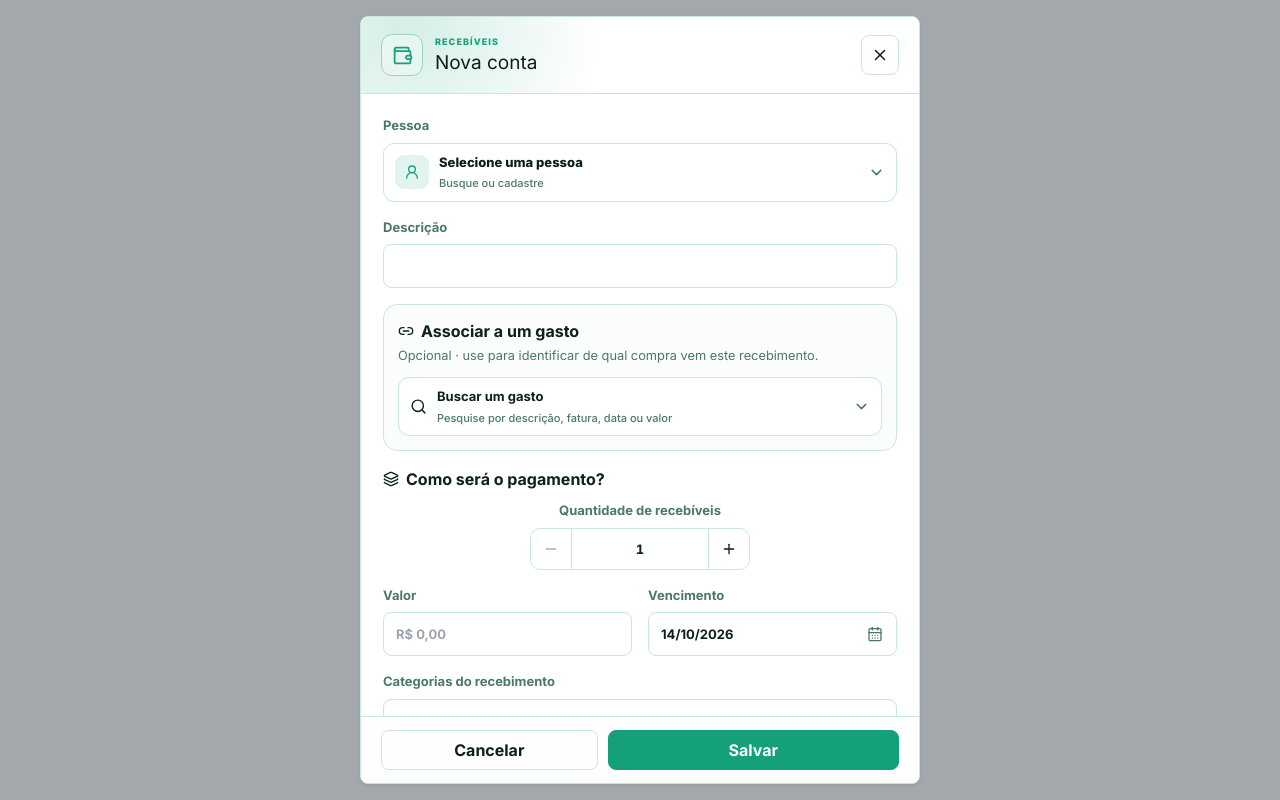
ReceivableModal expense defaults › prefills the original purchase total split across its four installments
Click the button "Buscar um gasto" at [490, 396], box [398,377,882,436]
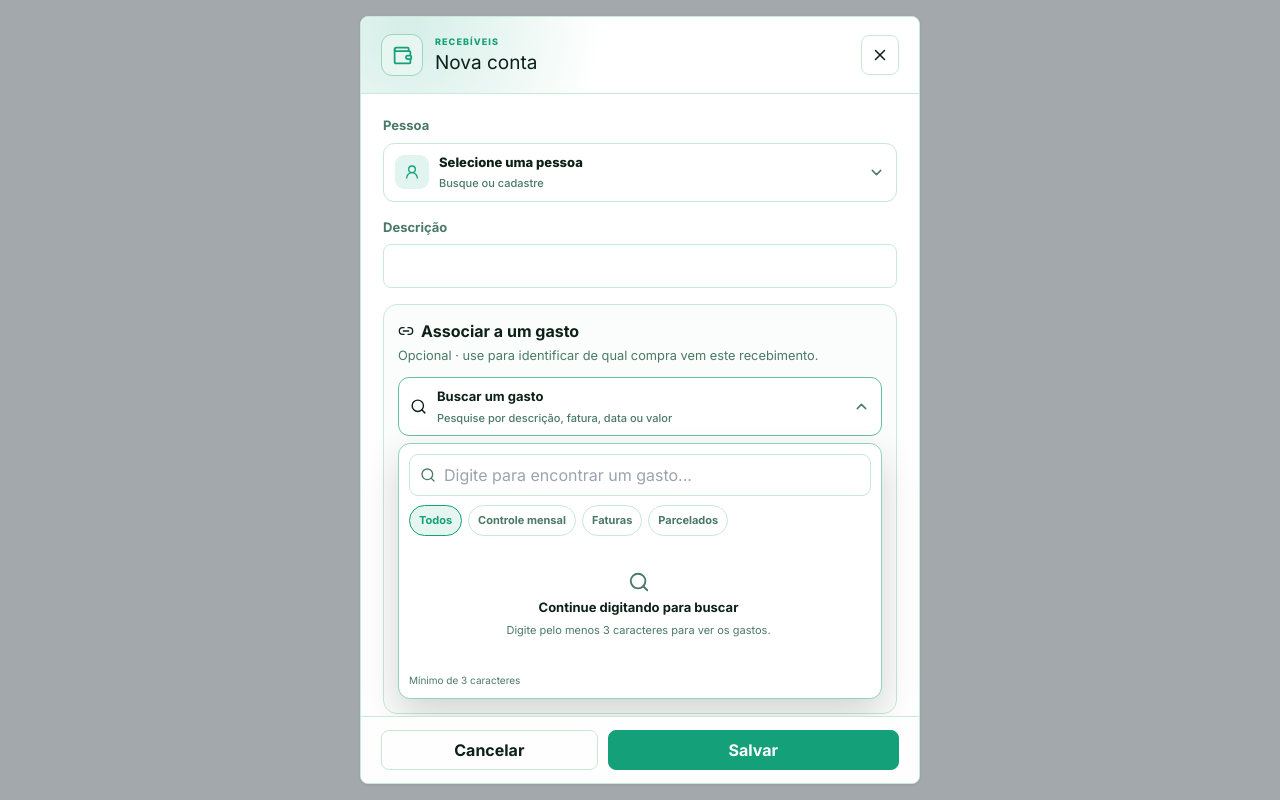
Type "compra" into the field with placeholder "Digite para encontrar um gasto..." at [652, 475], box [444,456,860,494]
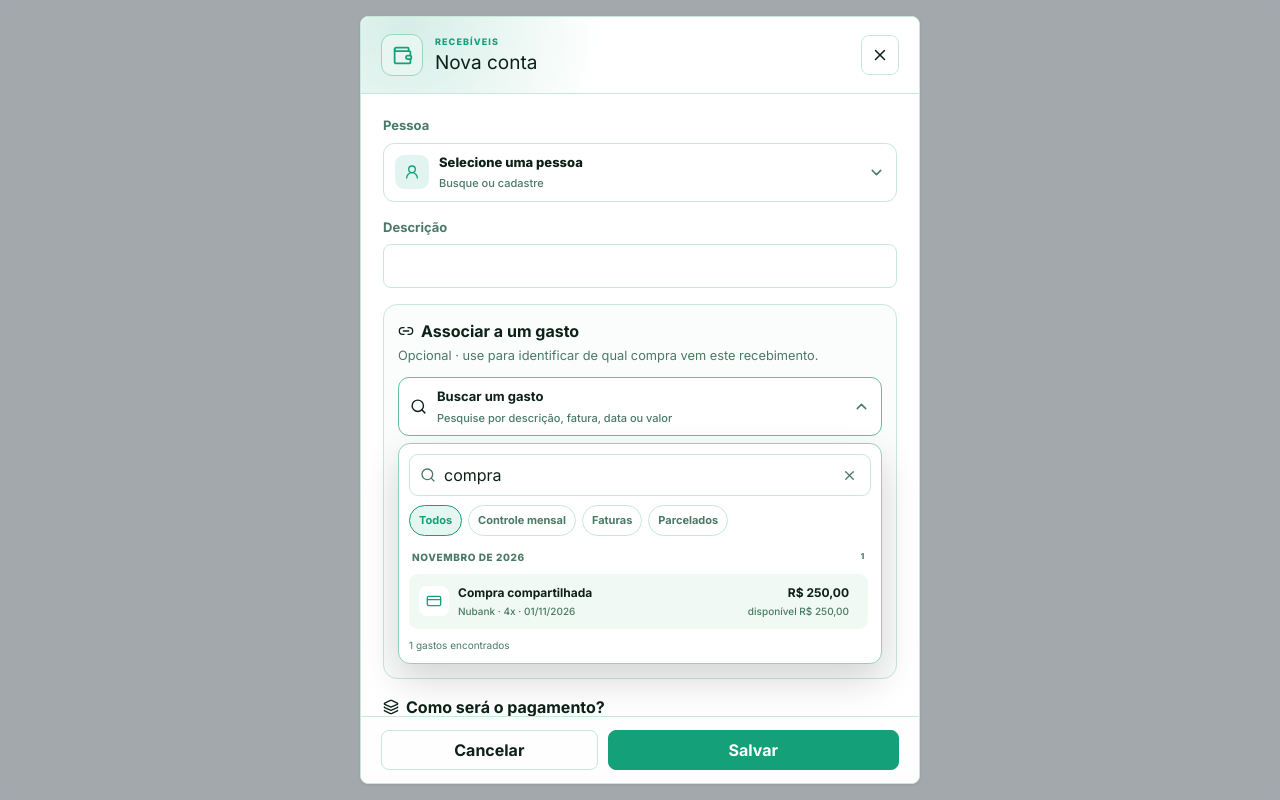
Click the button "Compra compartilhada" at [525, 592], box [409,574,868,629]
(page scrolled)
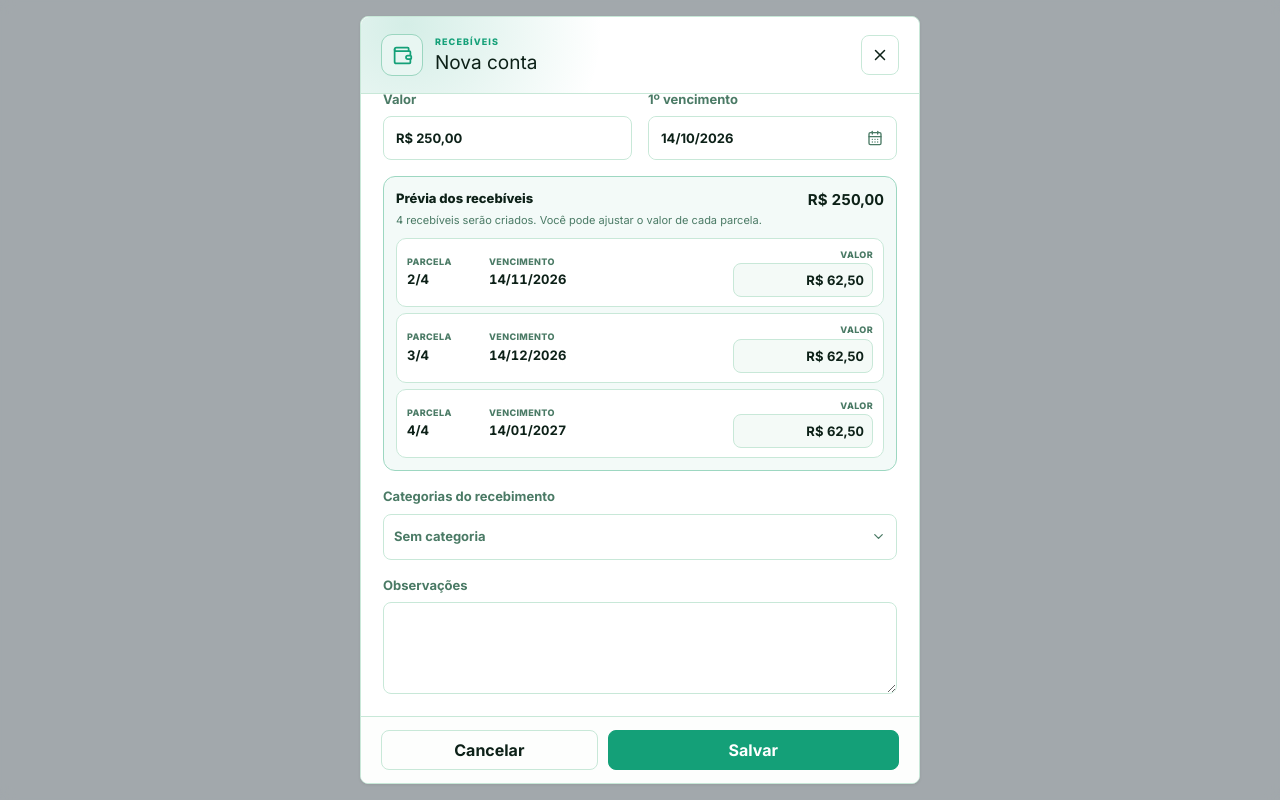
Now the 1st field holds "R$ 250,00", box [383,116,632,160]
Now the field labelled "Valor" in the row of "14/11/2026" holds "R$ 62,50", box [733,263,873,297]
Now the field labelled "Valor" in the row of "14/12/2026" holds "R$ 62,50", box [733,339,873,373]
